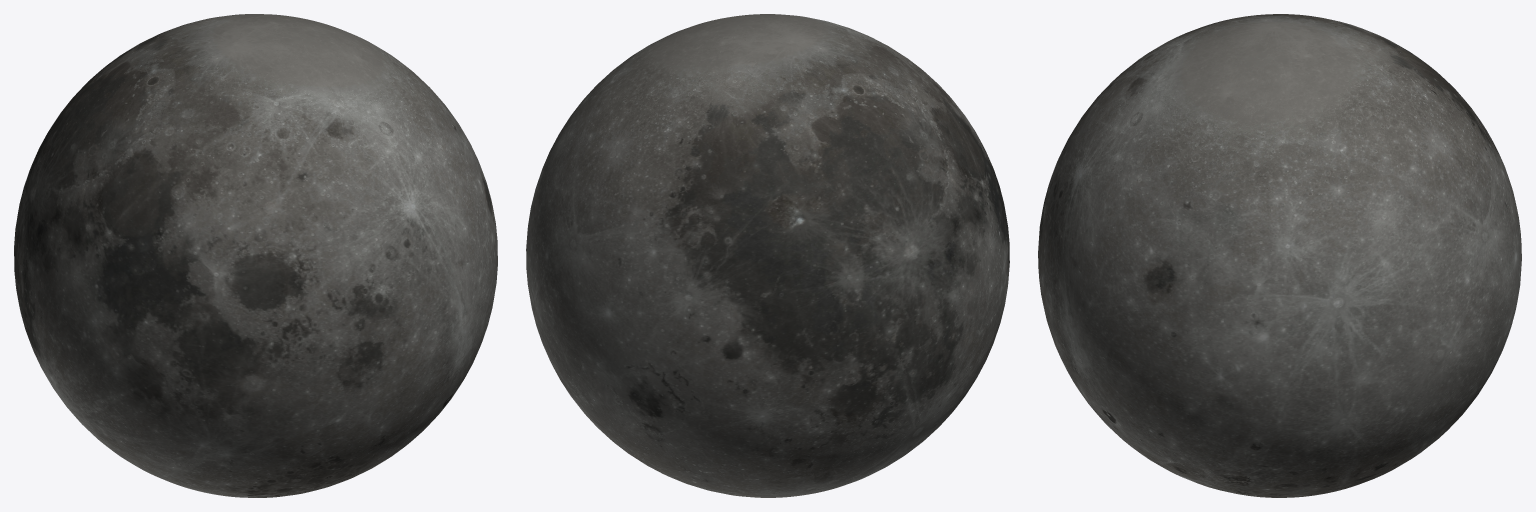
The model's file is moon.glb.
The picture shows the model from 3 angles, left to right: view 1: azimuth 30°, elevation 25°; view 2: azimuth 150°, elevation 25°; view 3: azimuth 270°, elevation 25°; orthographic projection.
Visible parts, largest first — view 1: Sphere; view 2: Sphere; view 3: Sphere.
Boxes of the visible parts, x1,y1,x2,y2 form: Sphere: [14, 14, 497, 497]; Sphere: [526, 14, 1009, 497]; Sphere: [1038, 14, 1521, 497].
Bounding box in the file's own units: 200 × 200 × 200.
1 material, 1 textured.
